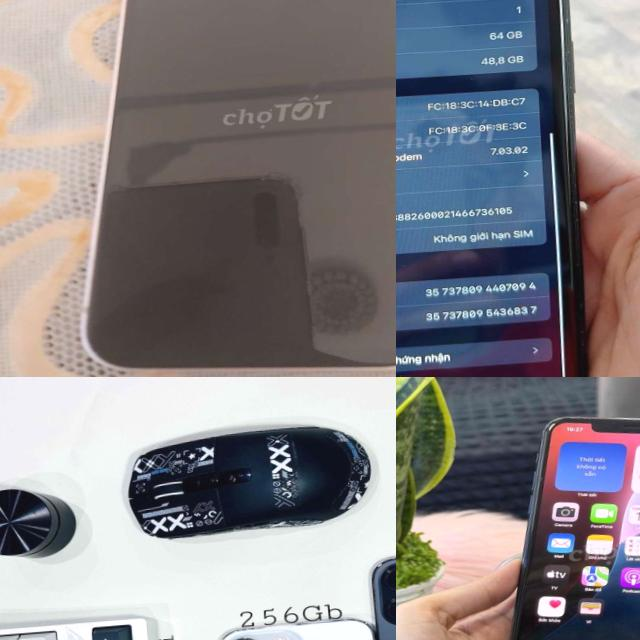gen_11: (509, 417, 640, 640)
gen_12_13: (45, 0, 396, 377)
gen_x_xs: (396, 0, 614, 377)
scratch: (553, 100, 598, 262), (541, 0, 586, 108)
